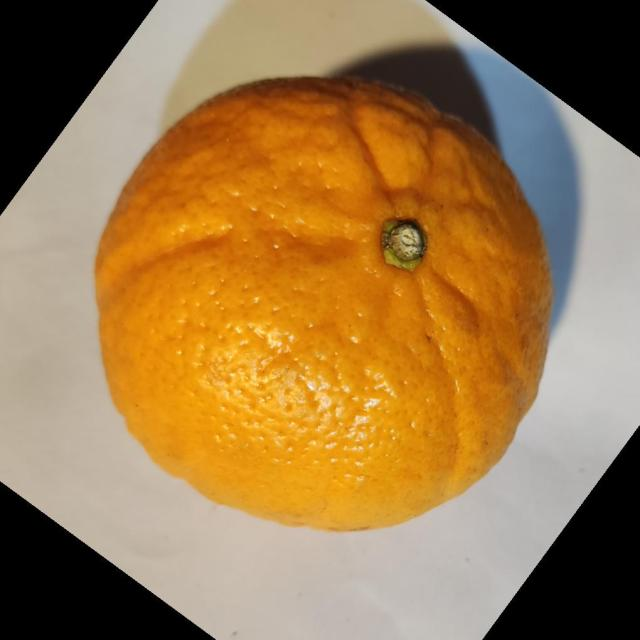fresh orange: (92, 72, 554, 532)
